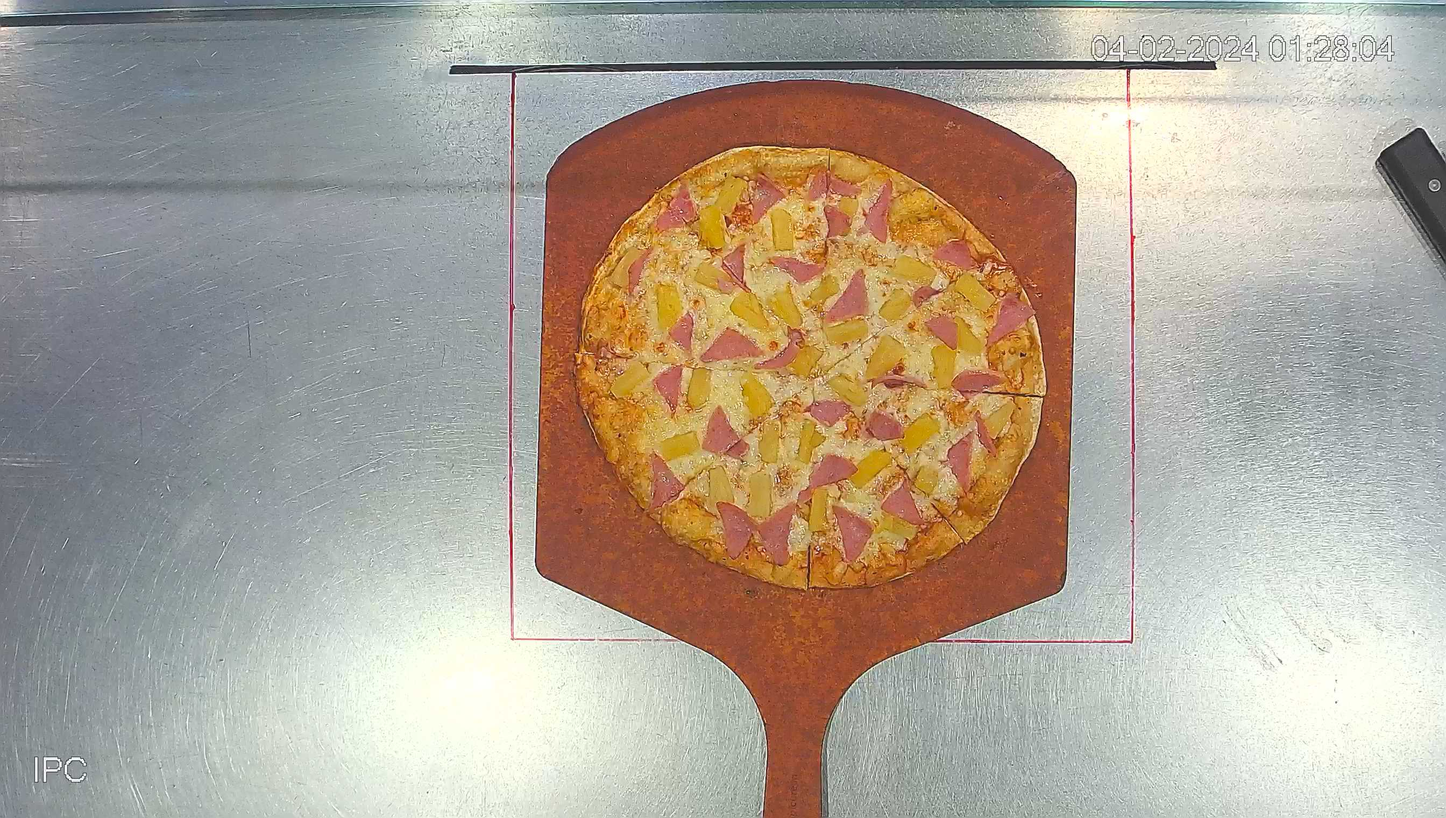manager_choice: (580, 149, 1047, 592)
